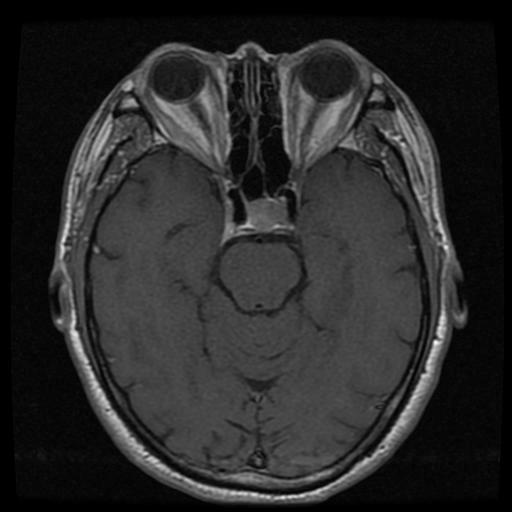Tumour-Pituitary: (211, 191, 318, 254)
